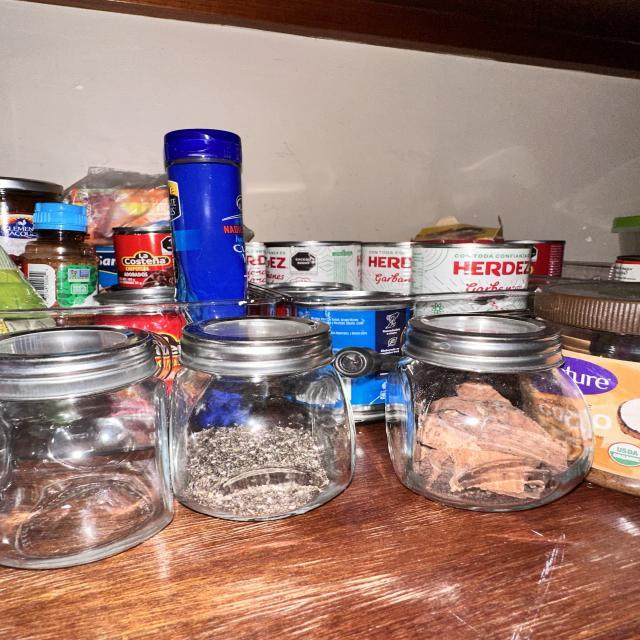hidden camera: (334, 350, 367, 376)
